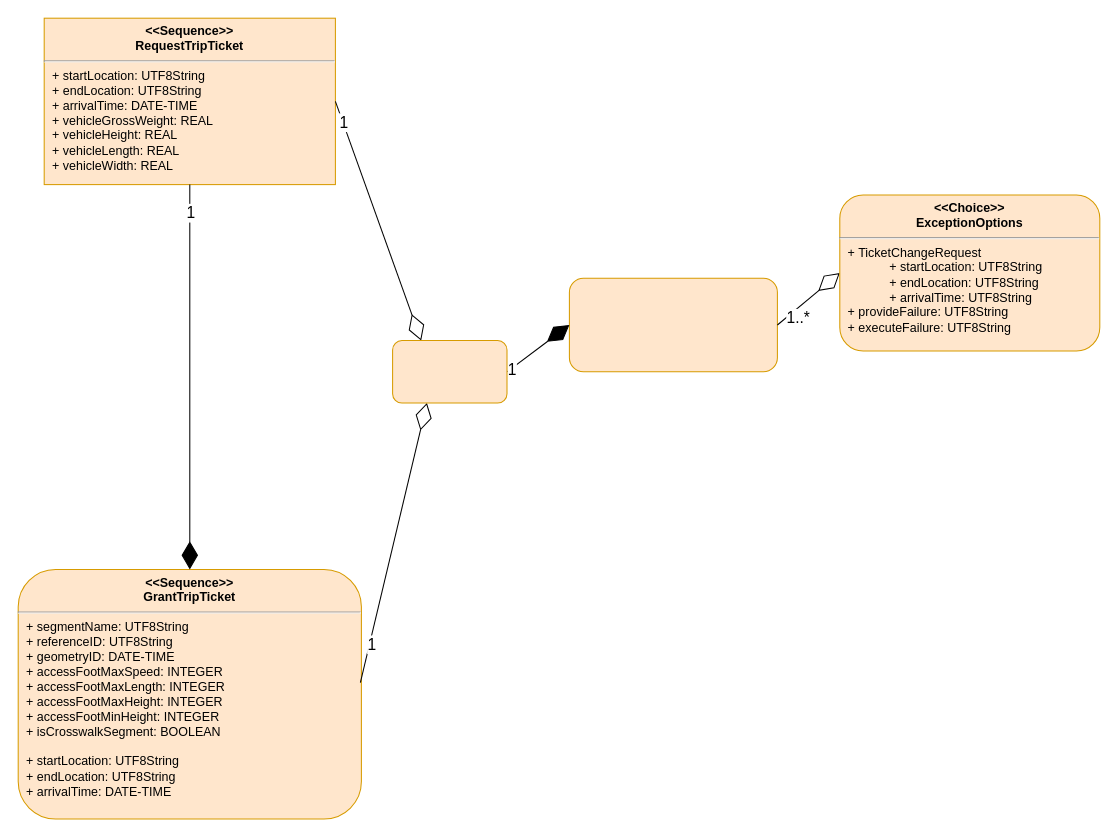
Image size: 1118x837. Some labels were removed from this diagram. The centre of each missing label's shape, as x and y in pixels:
<<Choice>> Exception Type + ticketRejected: BOOLEAN + ticketCompleted: BOOLEAN: the point at 672,324
<<Sequence>> Trip Exception: the point at 449,371
